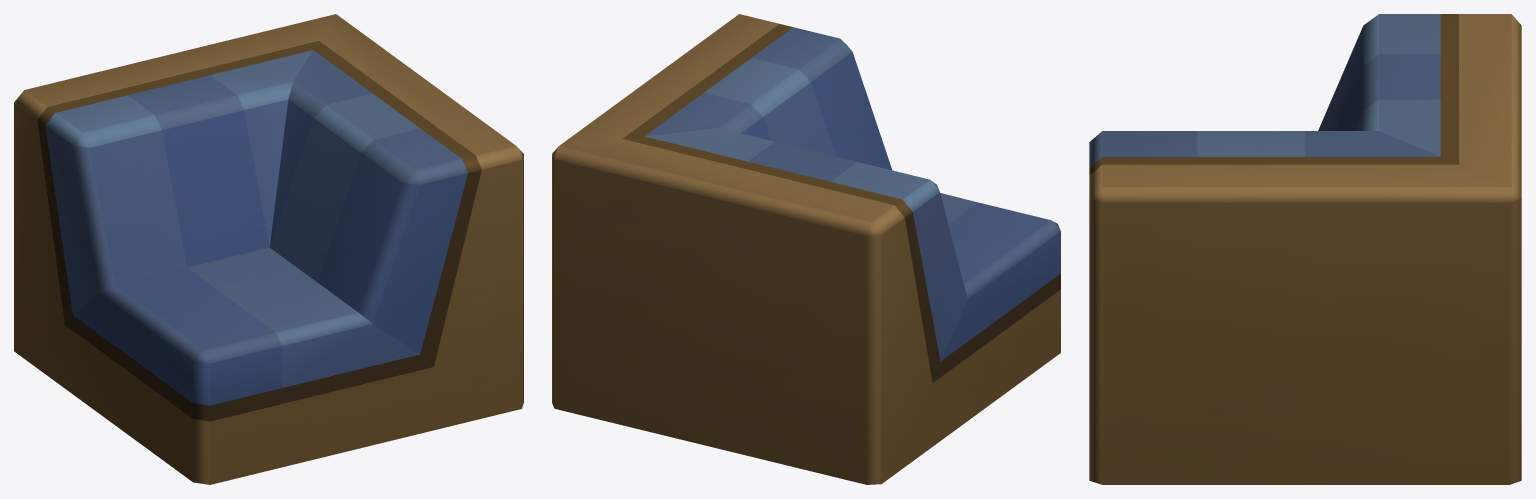
The model's file is chair_roof_corner_conc_blue.fbx.
3 views of the same model, side by side, from view 1: azimuth 30°, elevation 25°; view 2: azimuth 150°, elevation 25°; view 3: azimuth 270°, elevation 25° (orthographic). The views are drawn at different scales.
Parts seen in each view (by area): view 1: chair_roof_corner_conc_blue; view 2: chair_roof_corner_conc_blue; view 3: chair_roof_corner_conc_blue.
Part boxes in pixels (<box>): chair_roof_corner_conc_blue: <box>14,14,523,484</box>; chair_roof_corner_conc_blue: <box>552,14,1060,484</box>; chair_roof_corner_conc_blue: <box>1089,14,1521,484</box>.
Size of the model in its own units: 100 by 75 by 100.
